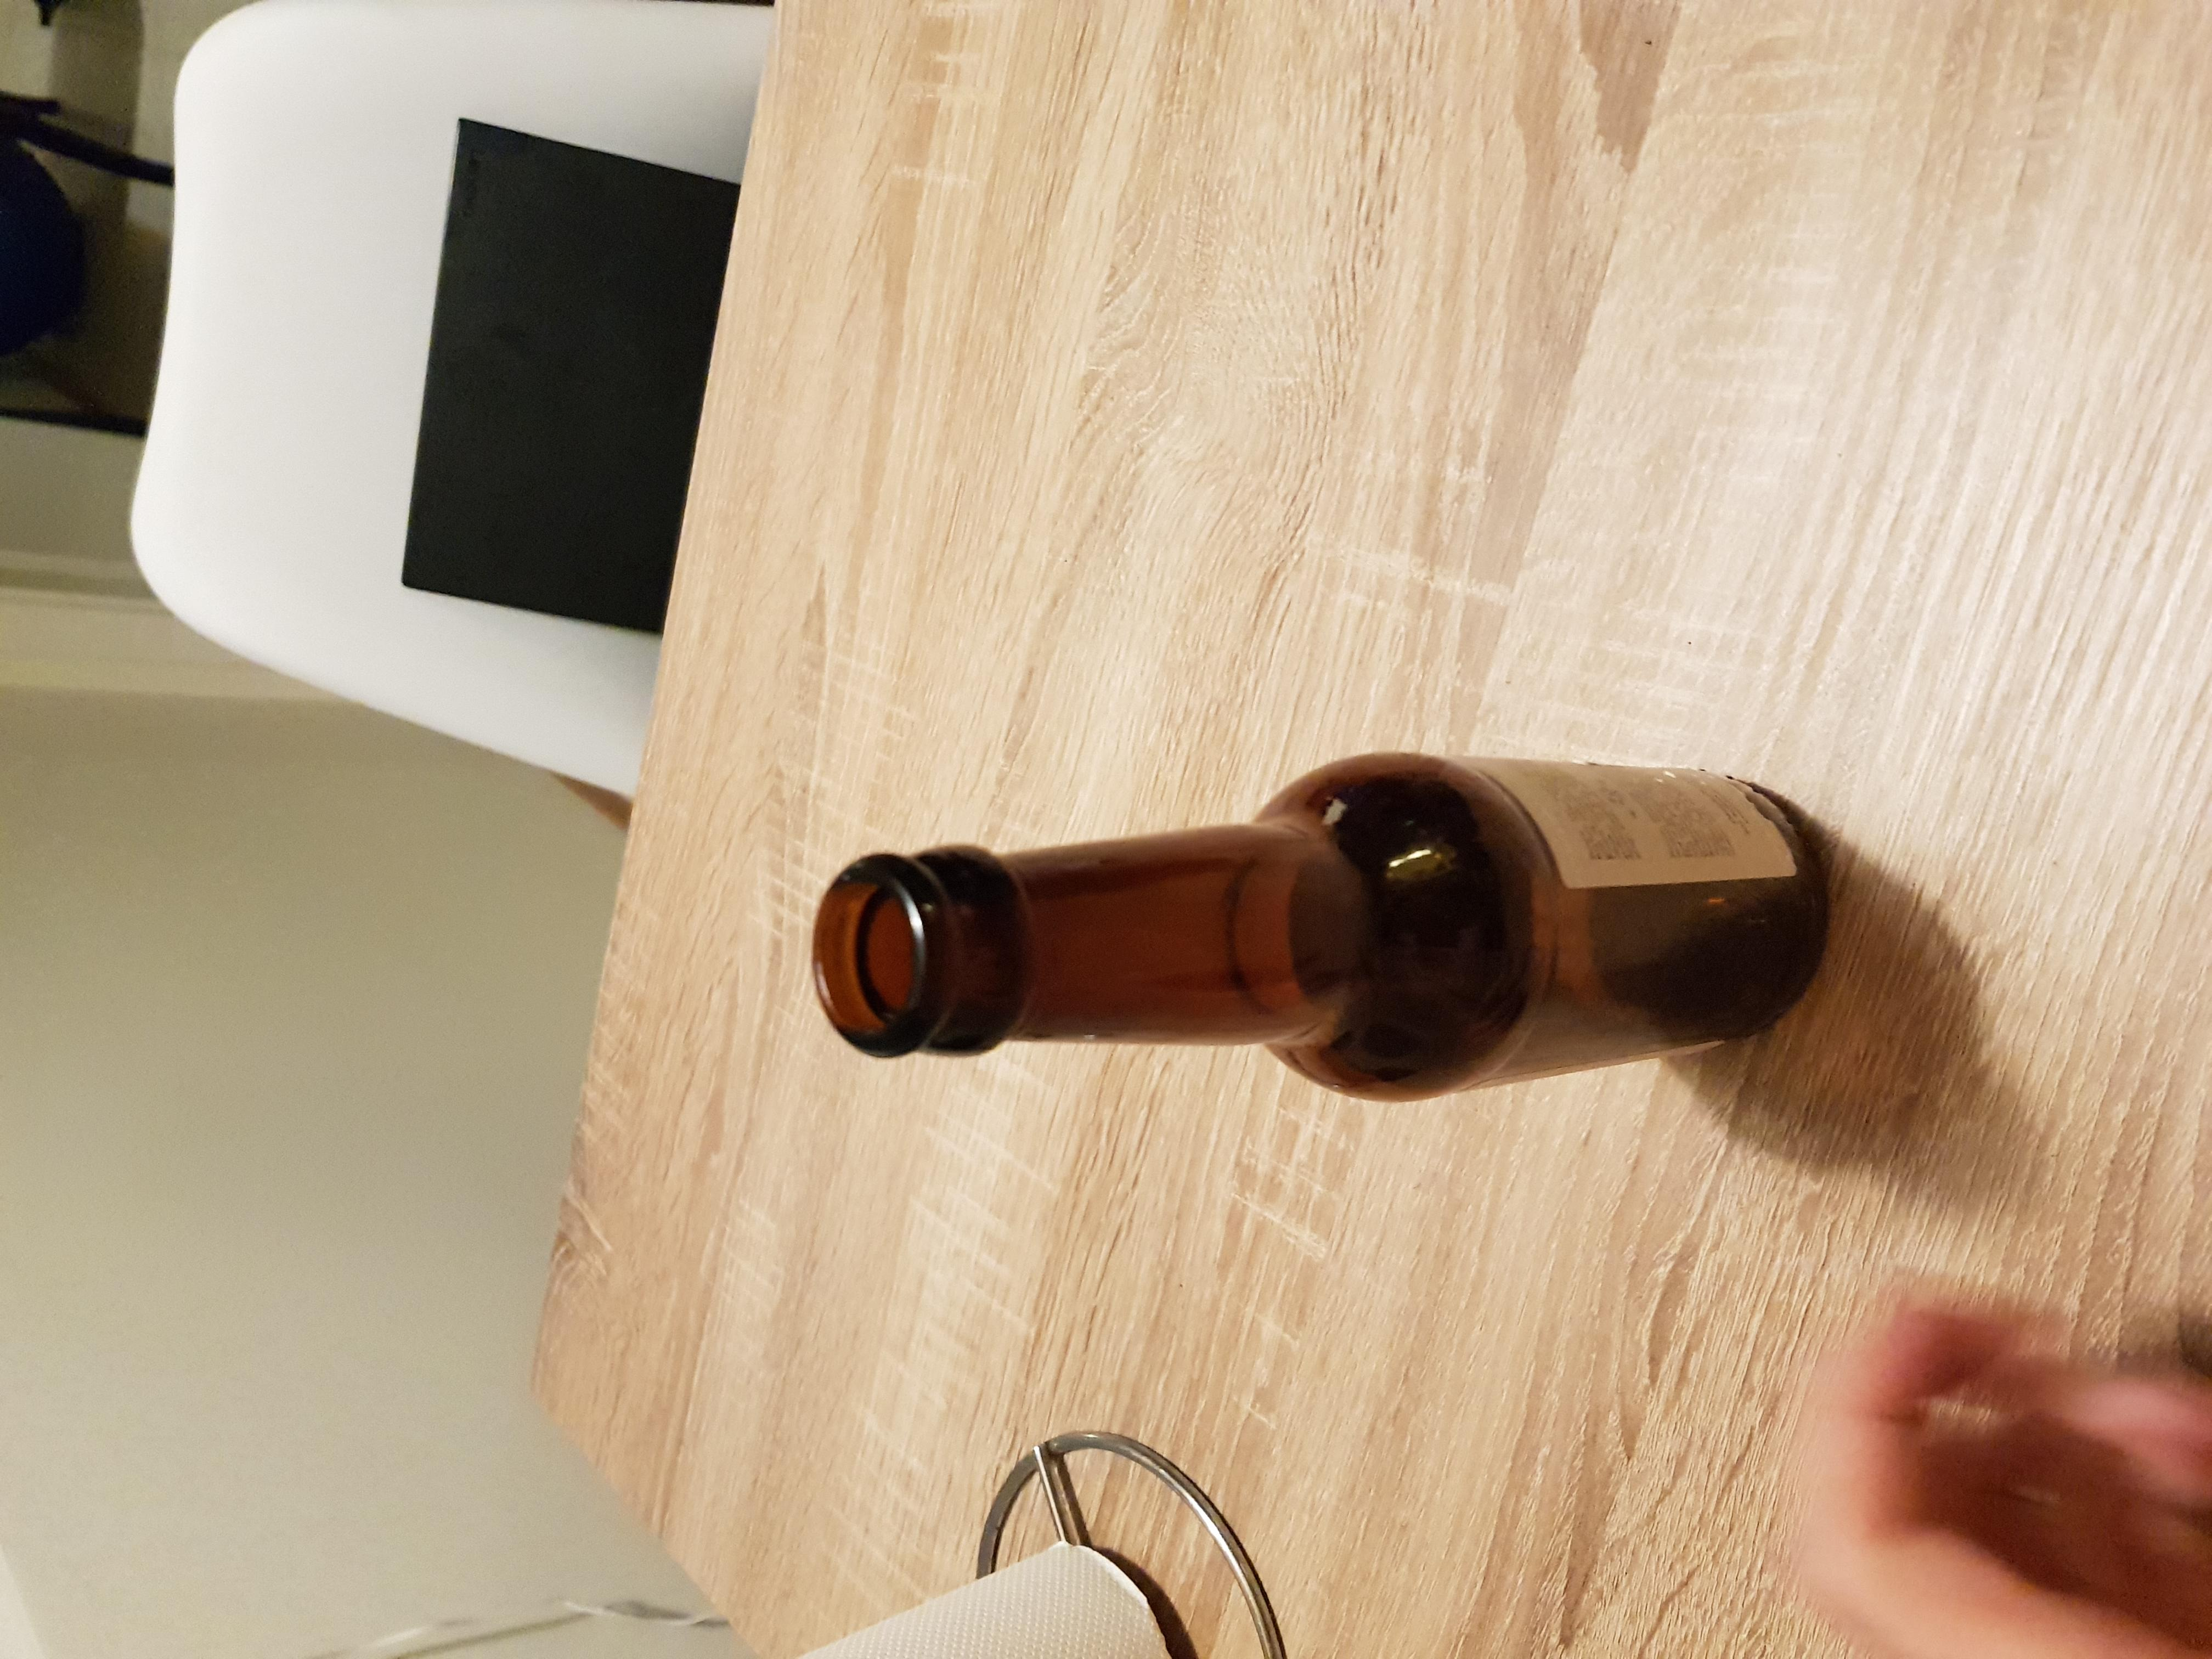Bottle: (805, 746, 1839, 1098)
